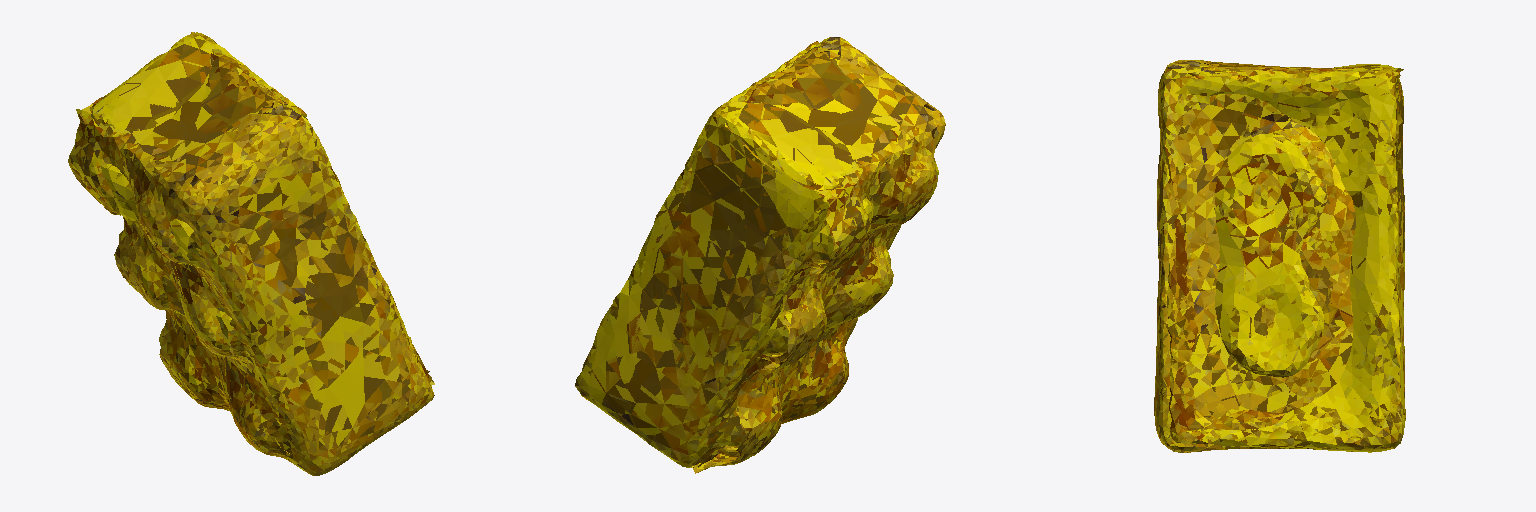
3 views of the same model, side by side, from view 1: azimuth 30°, elevation 25°; view 2: azimuth 150°, elevation 25°; view 3: azimuth 270°, elevation 25° (orthographic).
Size of the model in its own units: 0.0197 by 0.0256 by 0.0158.
1 materials, 1 textured.